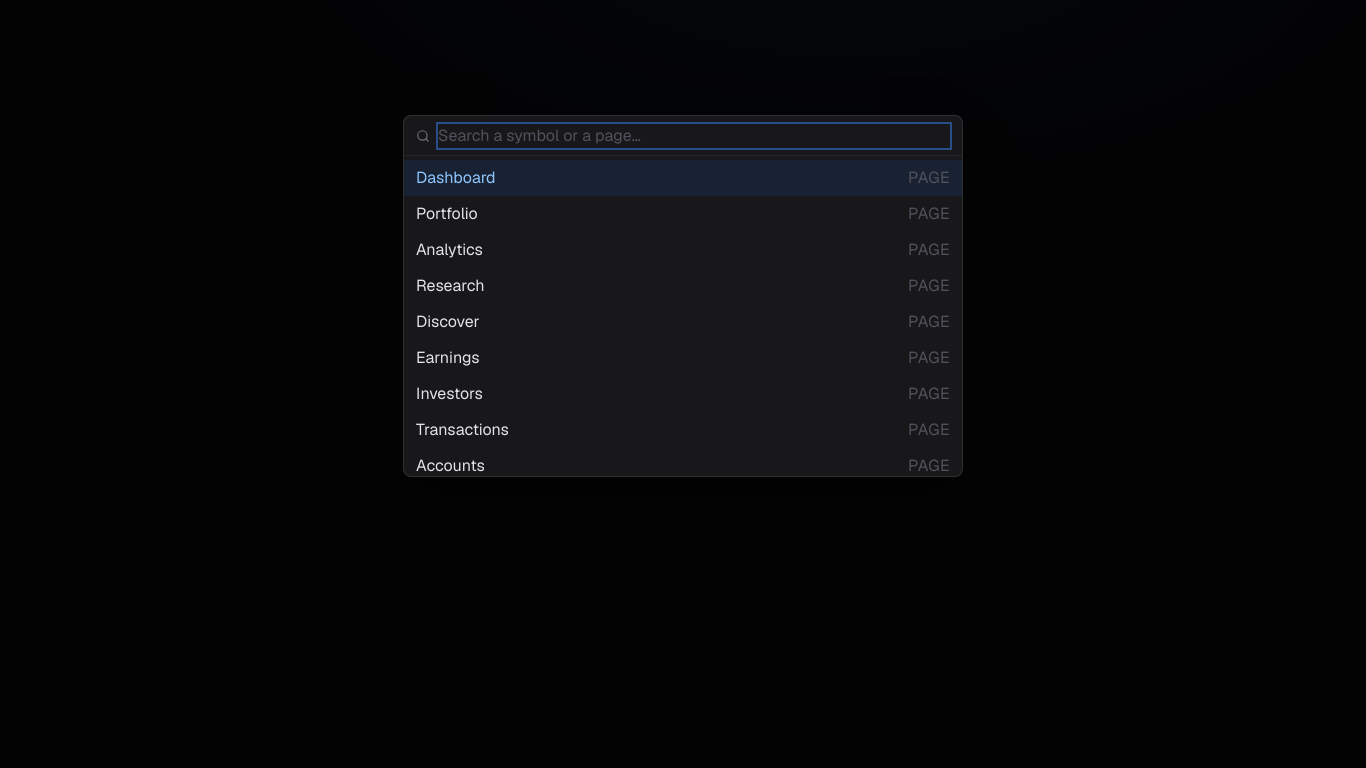
CommandPalette › offers the spend page
Type "spend" into the dropdown at (694, 136), box [438, 124, 950, 148]
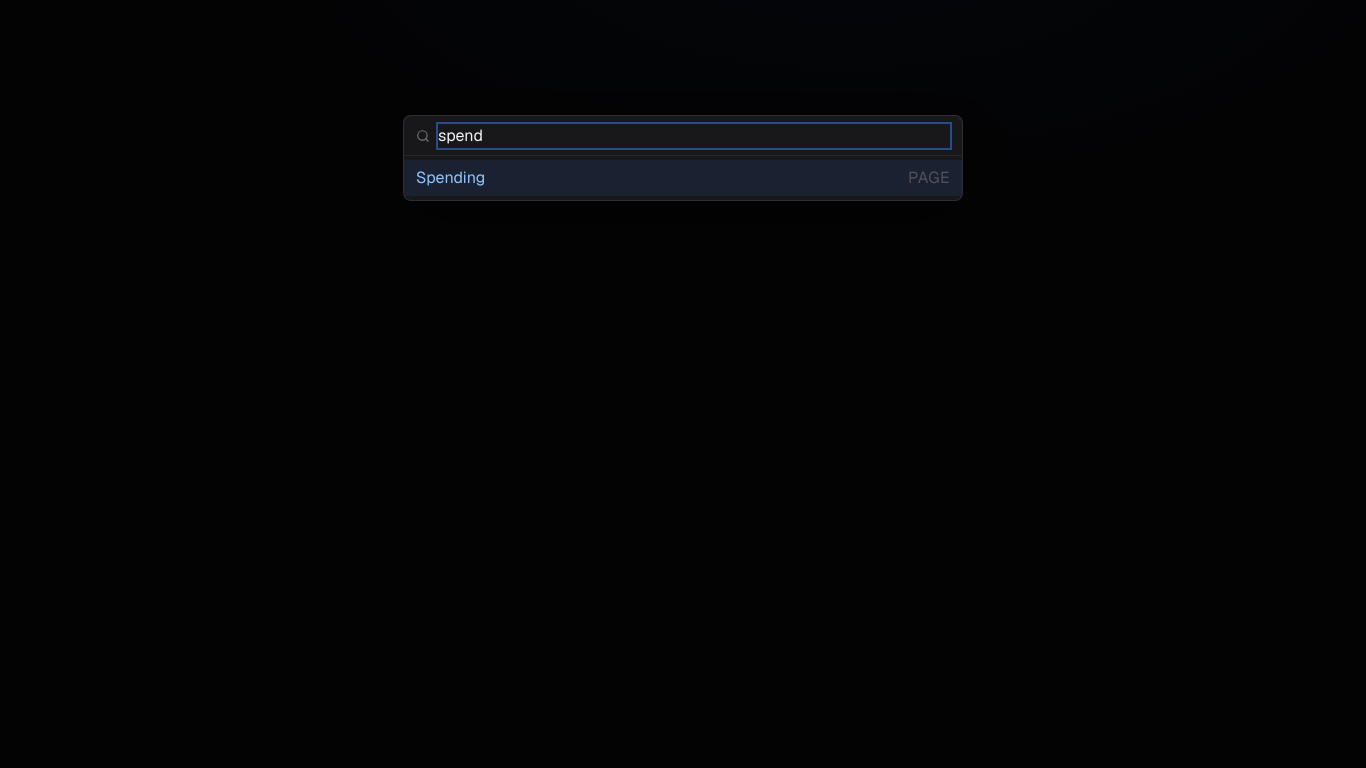
Expected: the option "Spending Page" is shown, [404, 160, 962, 196]
